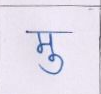u_matra: (39, 54, 67, 75)
